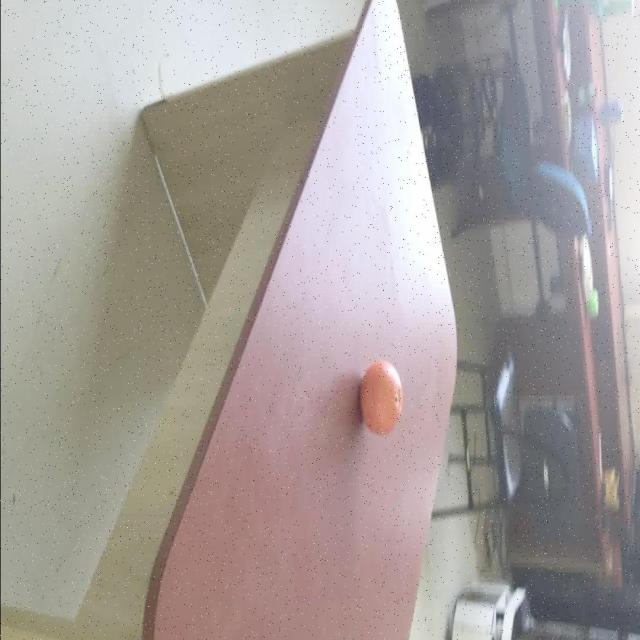Orange: (359, 358, 404, 435), (586, 288, 598, 316)
